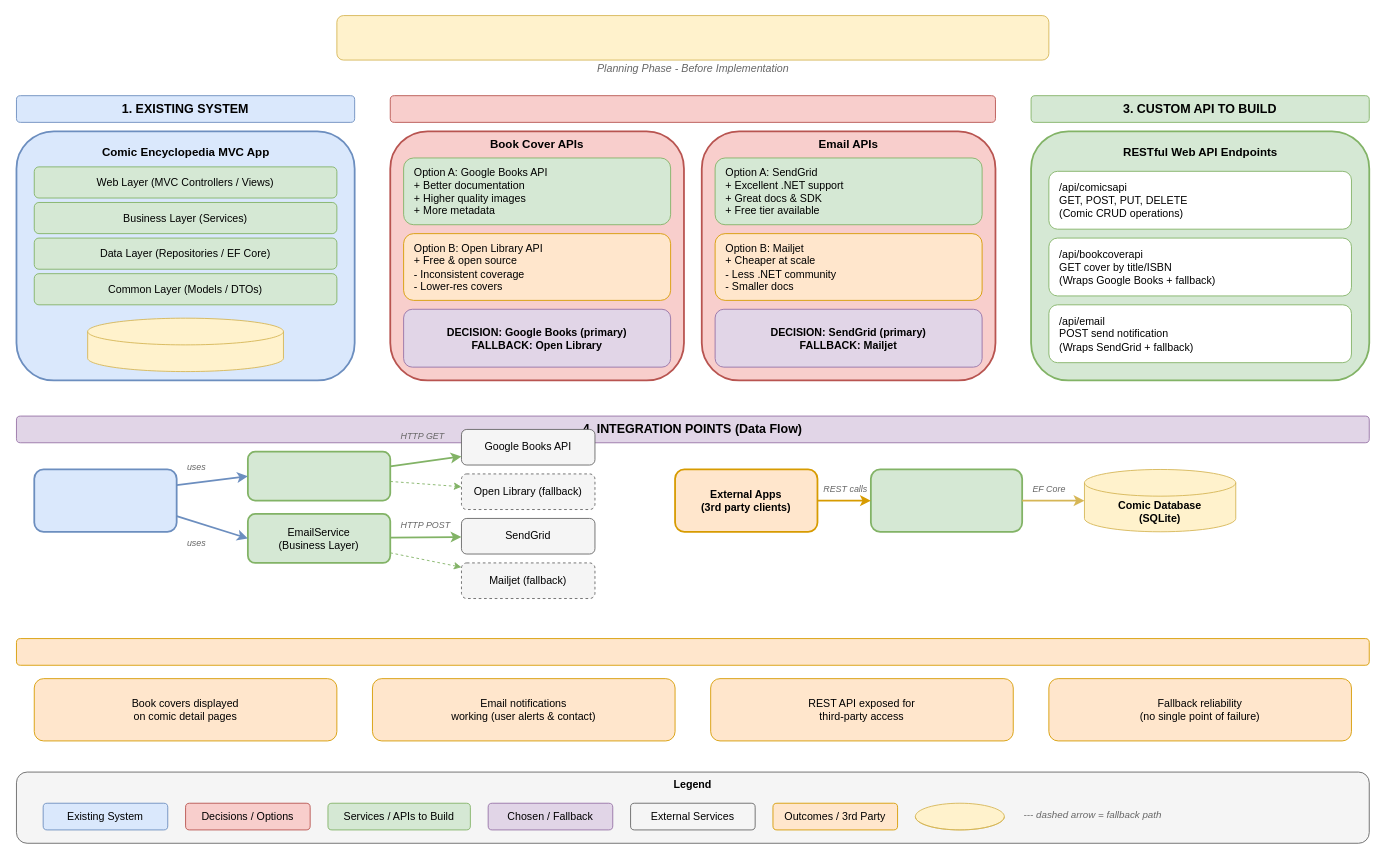
Image size: 1385x859. Some labels were removed from this diagram. Here are the shapes that lost their labels. From the top down, the centre of each, then its label:
At [692,37]: "API Integration Plan - Comic Encyclopedia".
At [692,108]: "2. APIs TO EVALUATE (Comparison)".
At [185,344]: "SQLite Database (70,000+ comics - British Library)".
At [319,475]: "BookCoverService (Business Layer)".
At [105,500]: "Comic Details Page (MVC View)".
At [946,500]: "Custom REST API /api/comicsapi".
At [692,651]: "5. EXPECTED OUTCOMES".
At [959,816]: "Database".
